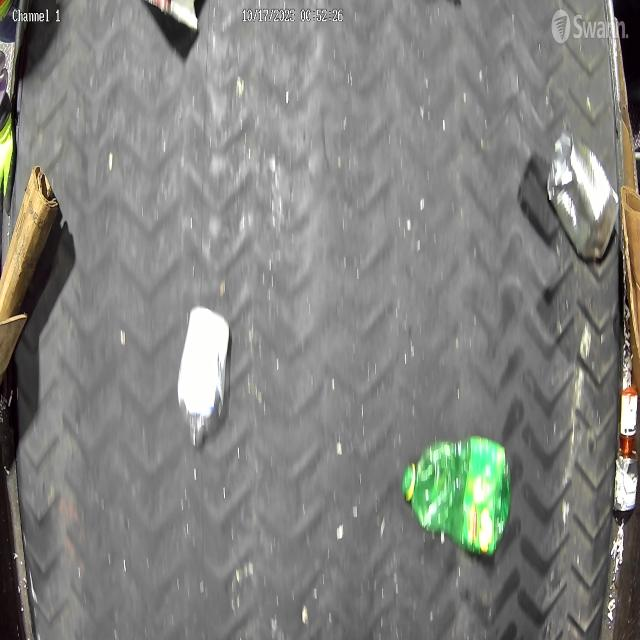can: (615, 445, 640, 511)
plastic_bottle: (547, 130, 619, 256)
